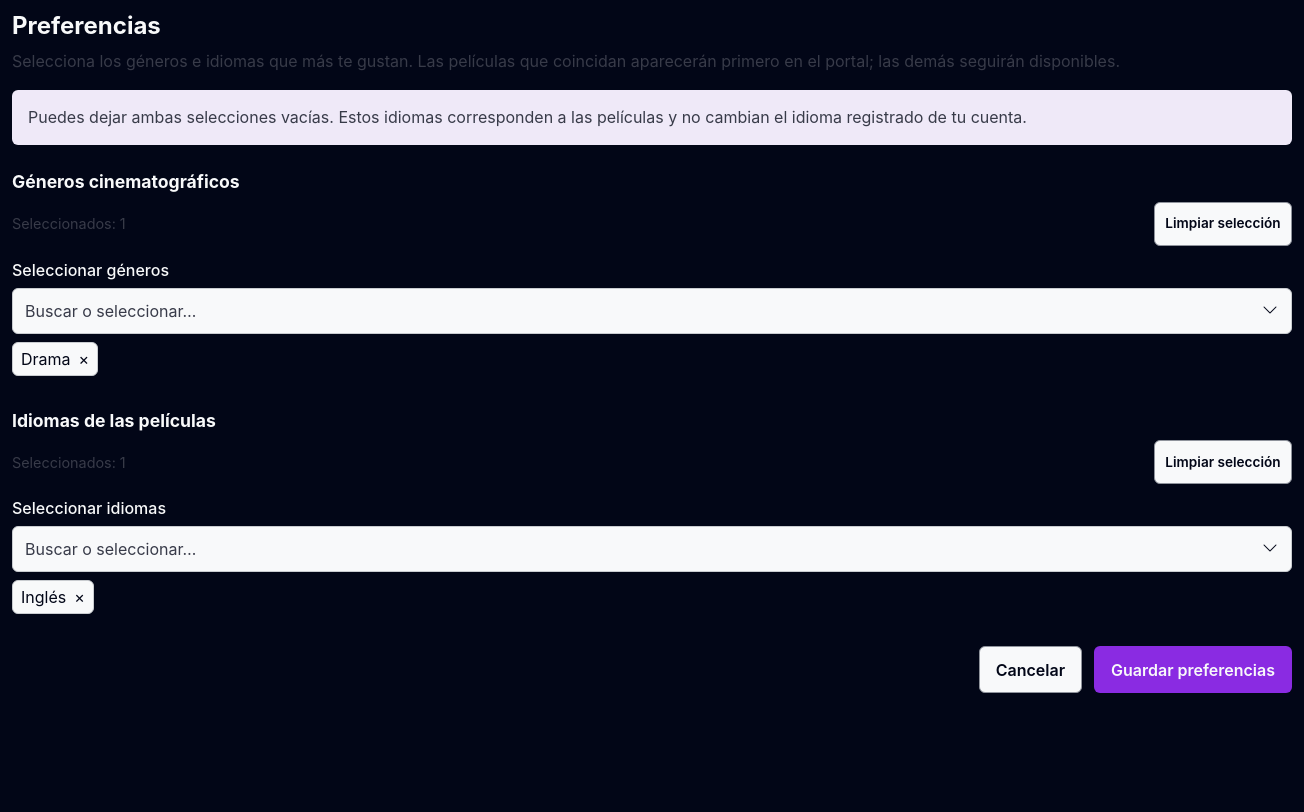
Test case: ClientPreferencesForm › shows database options and previously saved selections accessibly
Focus the search field with class "search-input" showing "Seleccionar géneros" at {"x": 652, "y": 310}, box [12,288,1292,334]
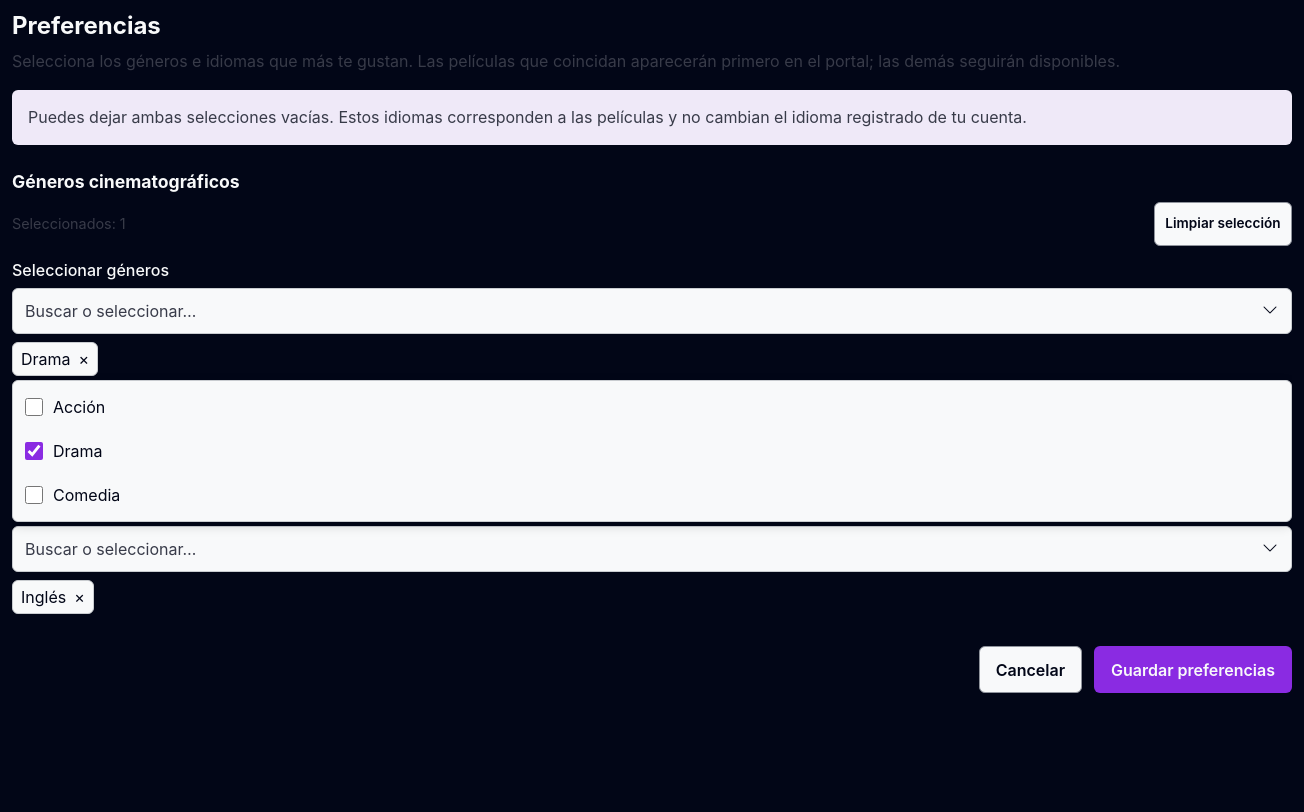
Focus the search field with class "search-input" showing "Seleccionar idiomas" at {"x": 652, "y": 549}, box [12,526,1292,572]
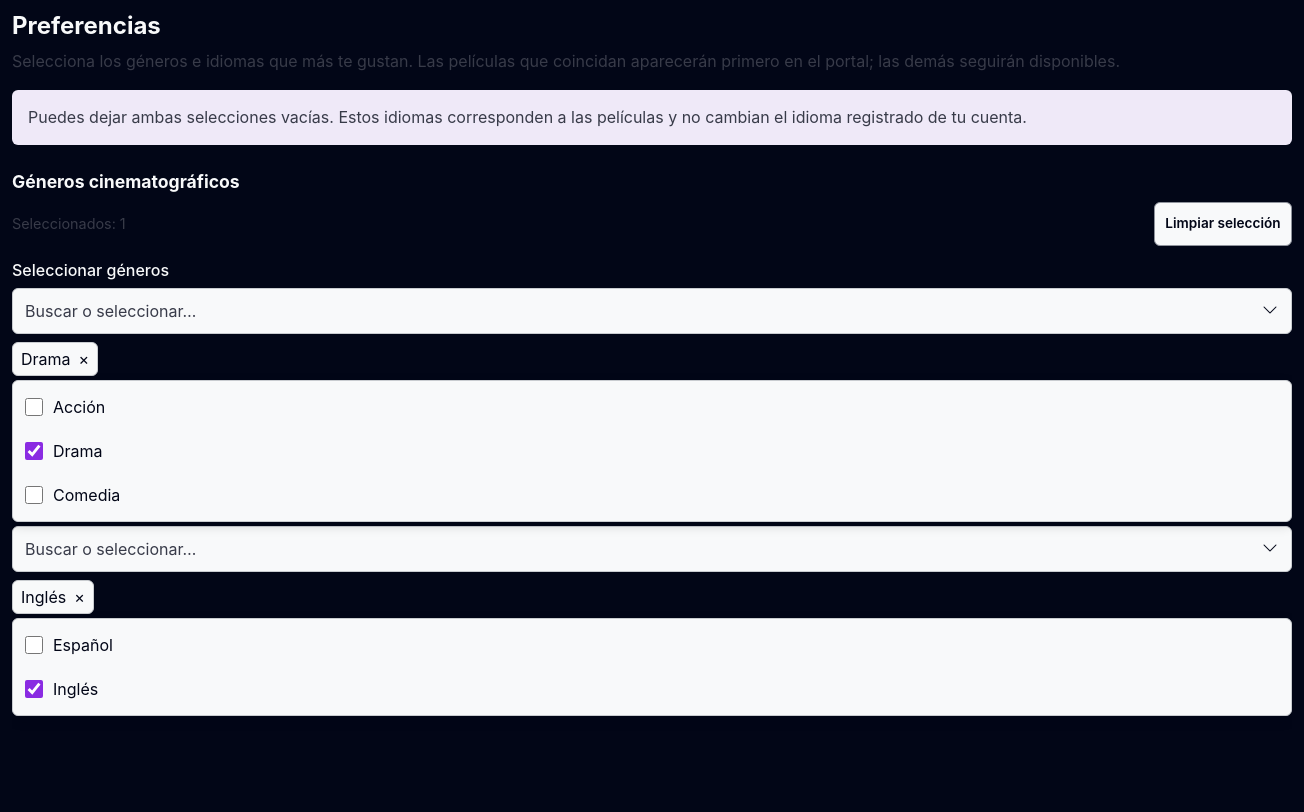
Expected: the text "Acción" is shown, [53,394,105,418]
Expected: the text "Español" is shown, [53,633,113,657]
